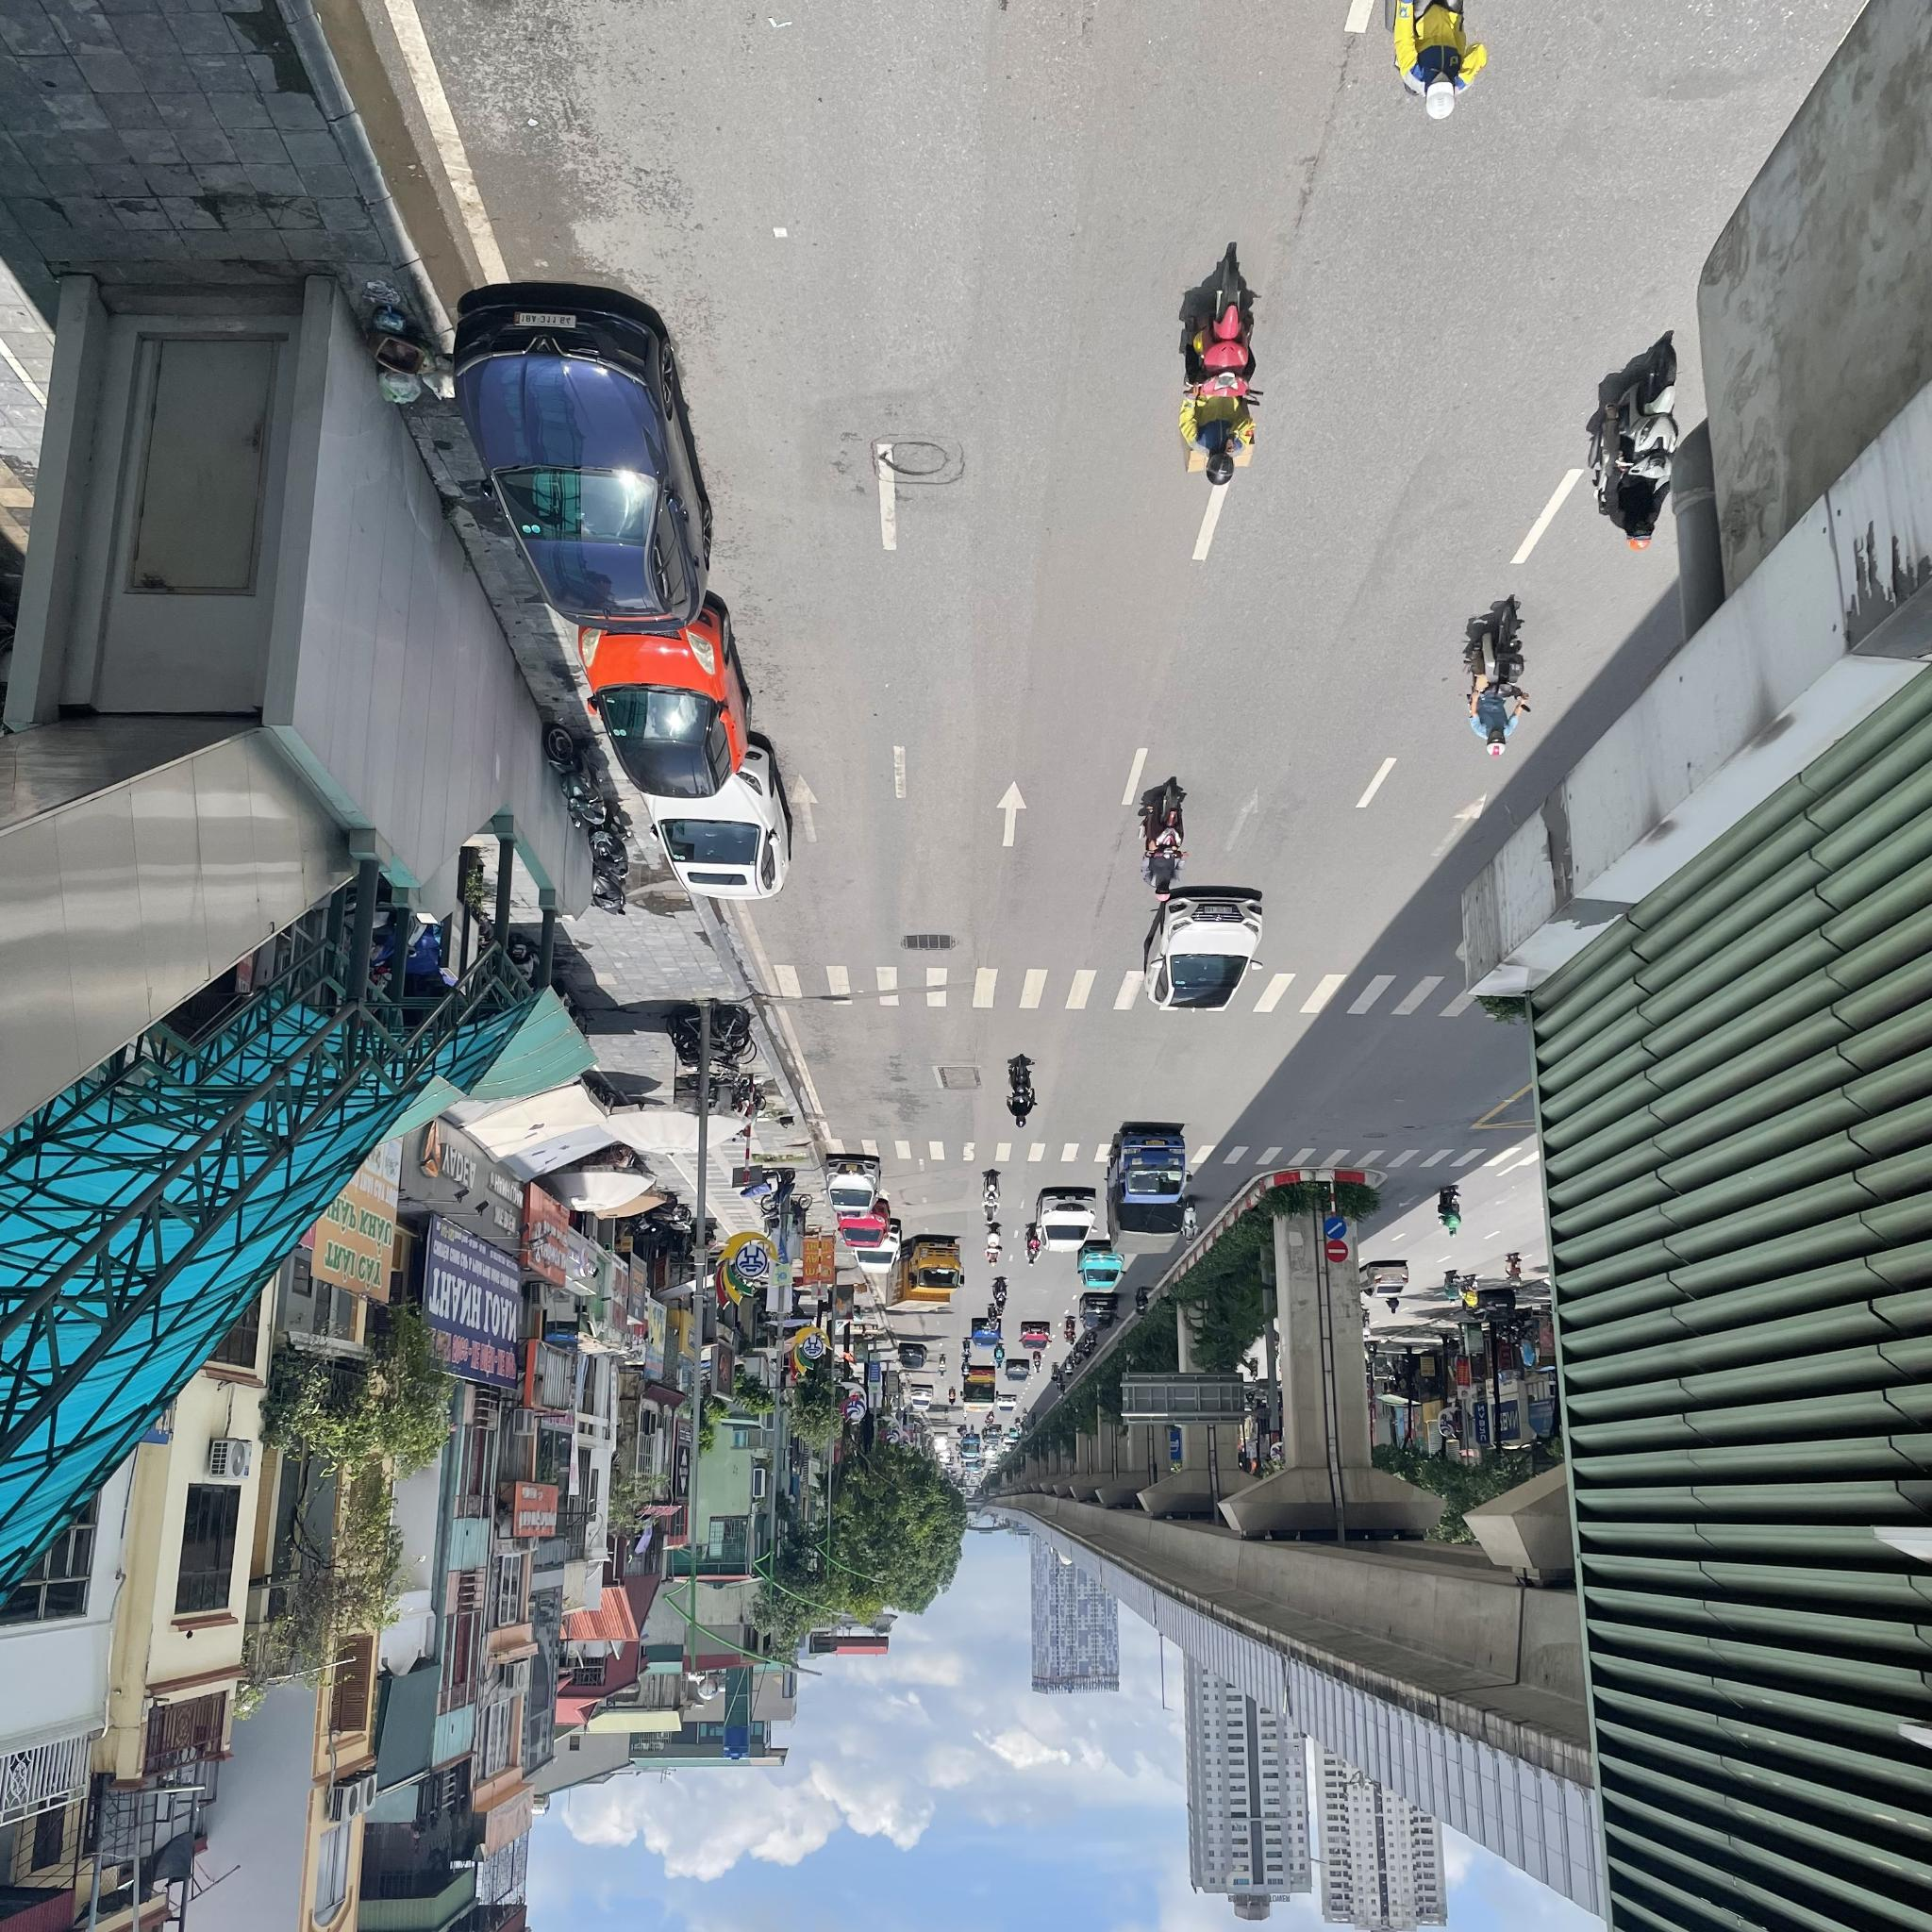car: (451, 292, 715, 633), (575, 600, 754, 800), (640, 747, 793, 901), (1143, 890, 1267, 1012), (1106, 1127, 1194, 1256), (885, 1240, 966, 1313), (1035, 1189, 1099, 1253), (819, 1155, 885, 1214), (853, 1219, 902, 1276), (837, 1198, 890, 1249), (1076, 1242, 1127, 1290), (1077, 1293, 1120, 1332), (961, 1368, 998, 1412), (1019, 1322, 1053, 1352), (970, 1320, 1003, 1348), (897, 1343, 929, 1371), (1005, 1359, 1031, 1384), (909, 1385, 934, 1412), (996, 1394, 1017, 1414), (932, 1385, 934, 1385)
motobike: (1175, 253, 1263, 485), (1587, 343, 1683, 552), (1465, 603, 1532, 761), (1134, 777, 1191, 901), (1007, 1054, 1039, 1129), (980, 1168, 1001, 1224), (1180, 1194, 1201, 1244), (1023, 1224, 1044, 1269), (985, 1224, 1003, 1267), (993, 1277, 1008, 1316), (1134, 1288, 1150, 1322), (1062, 1320, 1077, 1346), (993, 1343, 1007, 1369), (987, 1304, 998, 1334), (1086, 1330, 1099, 1353), (1031, 1353, 1044, 1375), (961, 1357, 971, 1382), (1072, 1345, 1083, 1369), (961, 1339, 971, 1362), (1049, 1362, 1060, 1385), (1063, 1359, 1072, 1382), (938, 1355, 947, 1376), (1058, 1382, 1067, 1403), (948, 1387, 957, 1407)
